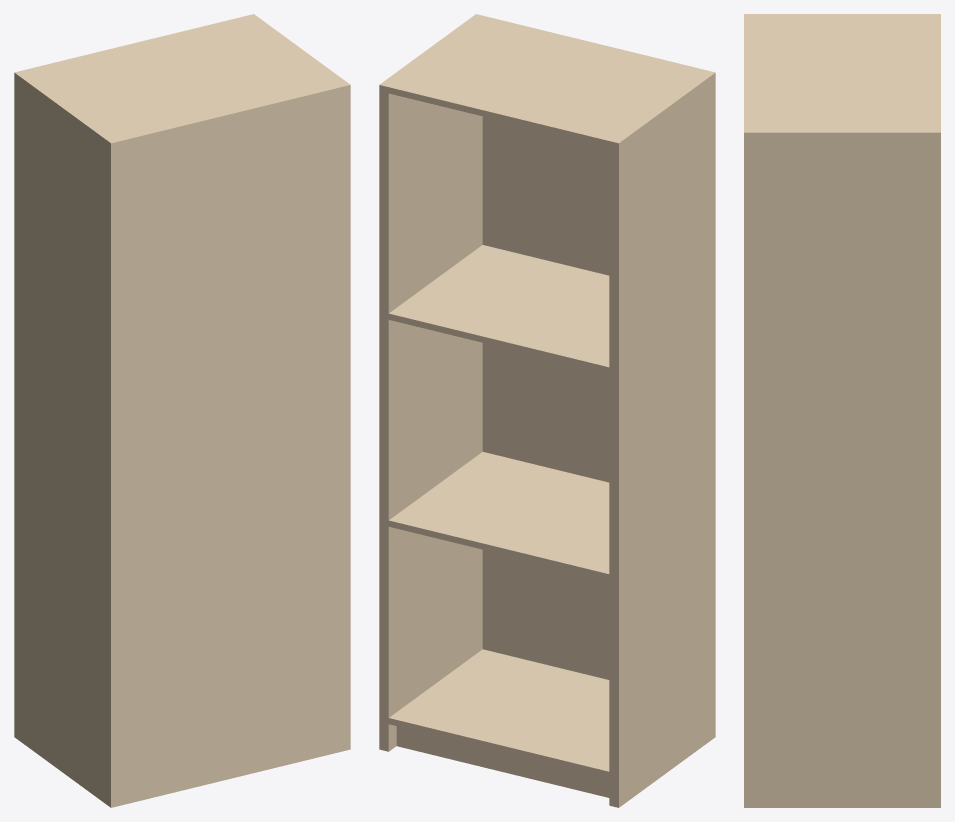
The model's file is billy-short.gltf.
3 renders of one model, left to right at view 1: azimuth 30°, elevation 25°; view 2: azimuth 150°, elevation 25°; view 3: azimuth 270°, elevation 25°, orthographic.
Size of the model in its own units: 0.4 by 1.06 by 0.28.
